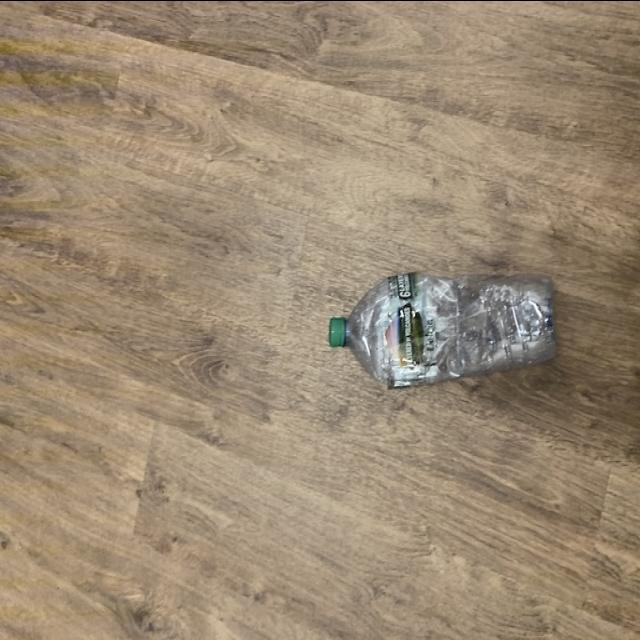litter: (328, 262, 558, 388)
